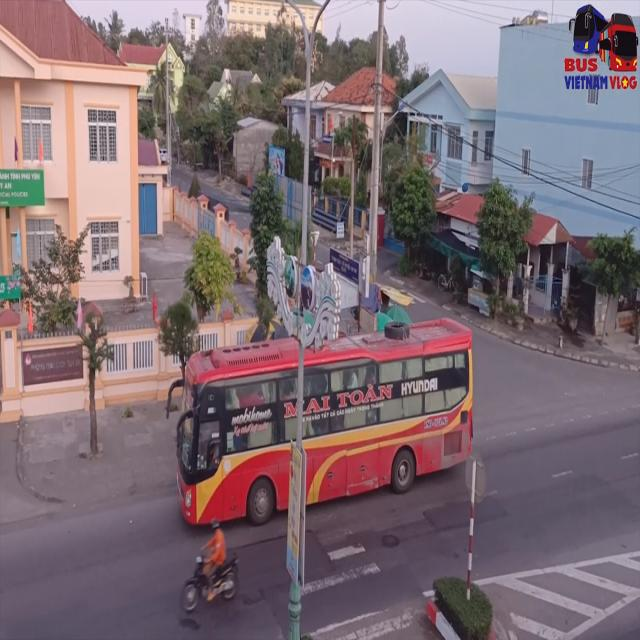bus: (179, 318, 472, 533)
motorbike: (182, 526, 240, 620)
